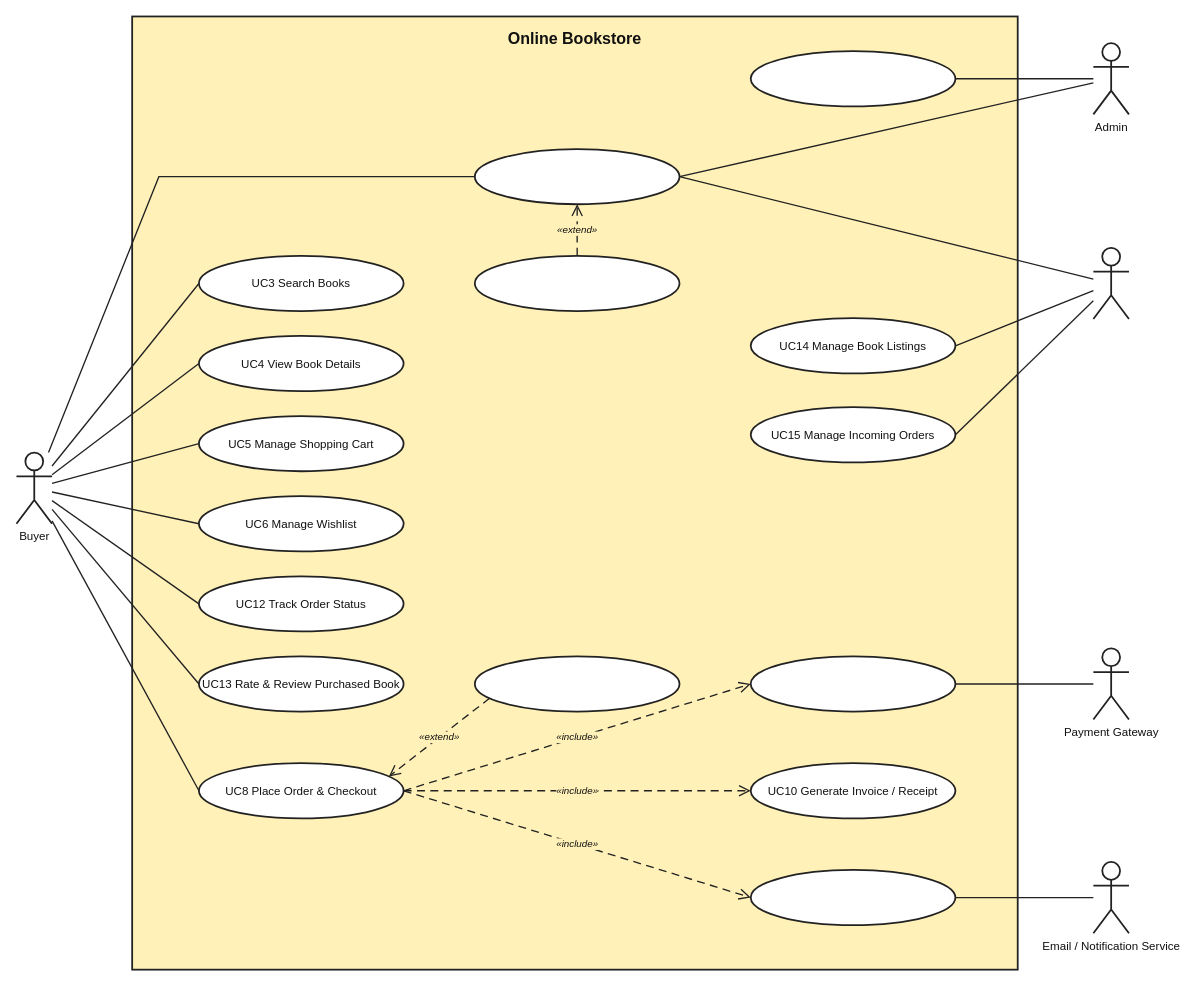
Some shapes in this 1195 by 985 pixel diagram are drawn without their labels. The centre of each missing label's shape, as x and y in pixels:
Seller: pixel 1110 283
UC1 Register / Log In: pixel 576 176
UC11 Send Order Confirmation: pixel 852 897
UC16 Moderate Listings & Accounts: pixel 852 78
UC2 Reset Forgotten Password: pixel 576 283
UC7 Apply Discount Code: pixel 576 683
UC9 Process Payment: pixel 852 683
